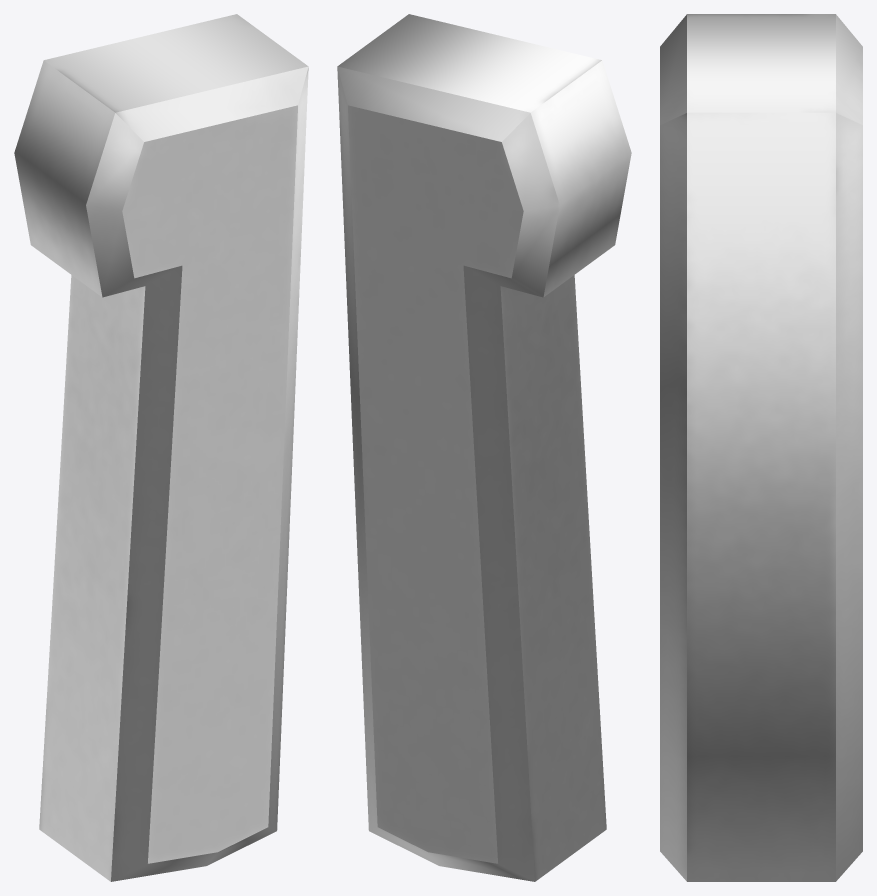
File: number_1.obj
3 renders of one model, left to right at view 1: azimuth 30°, elevation 25°; view 2: azimuth 150°, elevation 25°; view 3: azimuth 270°, elevation 25°, orthographic. The views are drawn at different scales.
Visible parts, largest first — view 1: Number_1; view 2: Number_1; view 3: Number_1.
Part boxes in pixels (box(x1,y1,x2,y2)): Number_1: box(14, 14, 308, 881); Number_1: box(337, 14, 631, 881); Number_1: box(660, 14, 862, 881).
Size of the model in its own units: 7.77 by 25.85 by 5.91.
Materials: 1 (1 with a texture image).
